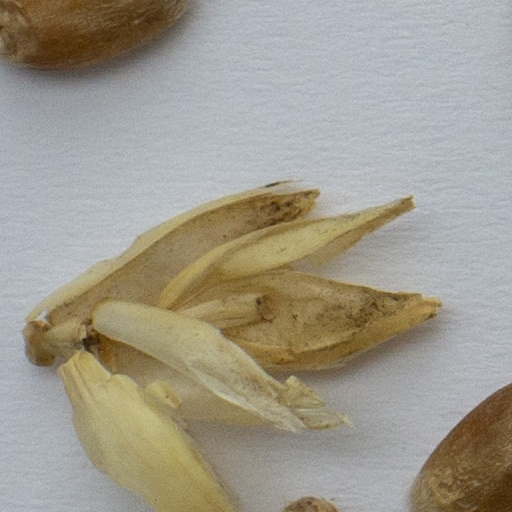Peel-poly: (25, 184, 442, 511)
